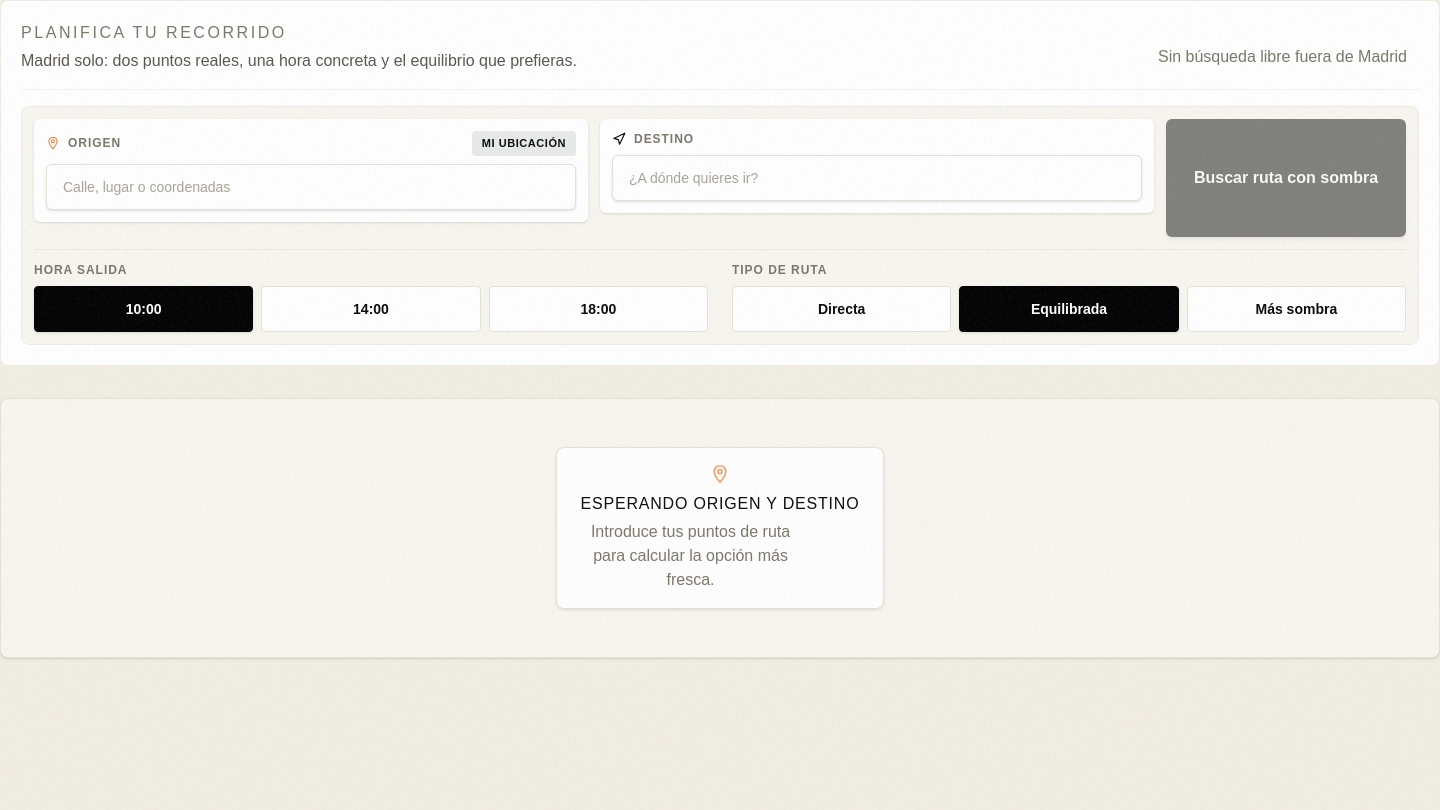
Test: SearchBar integration › shows a clear error when the catalog cannot be loaded
Type "prado" into the dropdown named "Destino" at (877, 178), box top-left (612, 155), bottom-right (1142, 201)
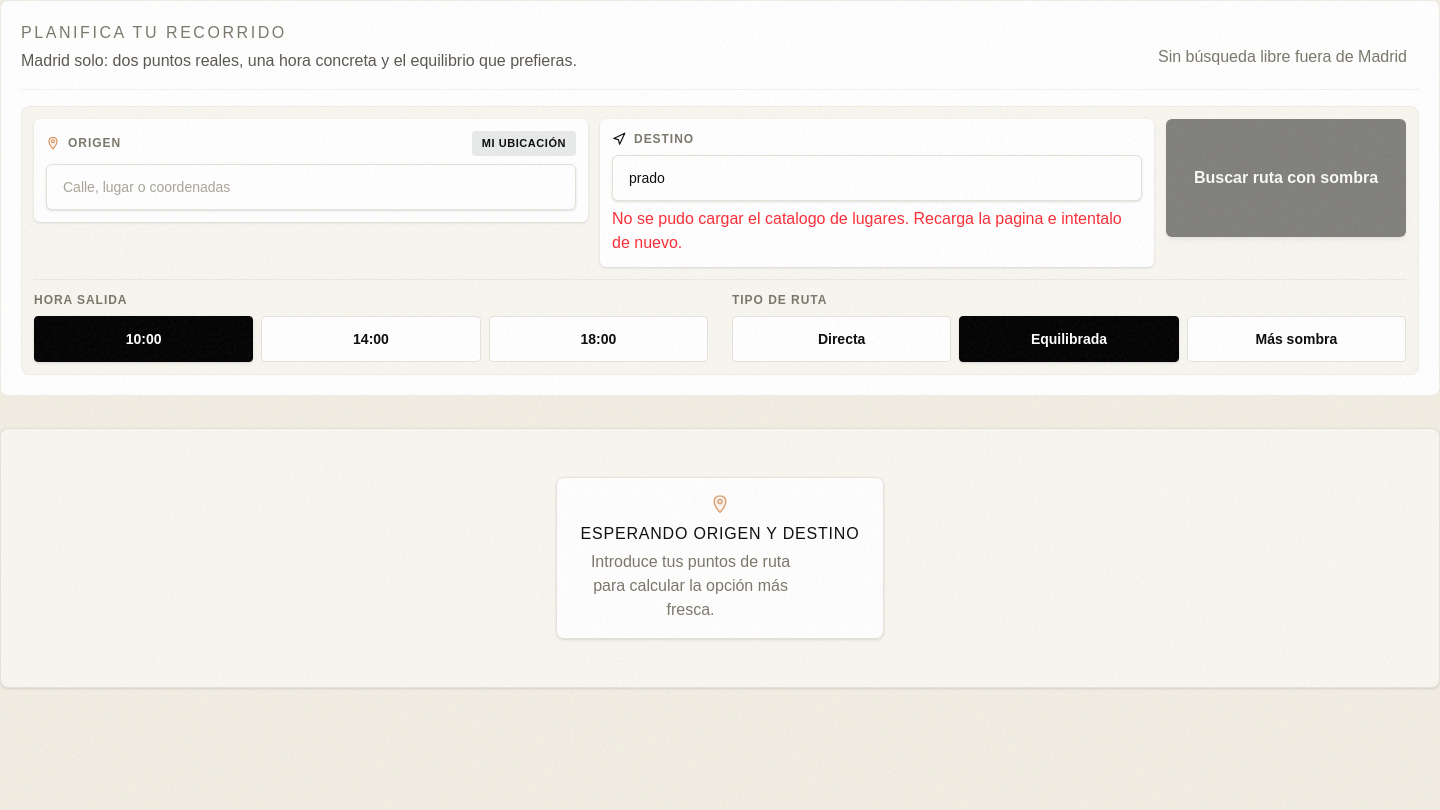
Check: the text "No se pudo cargar el catalogo de lugares. Recarga la pagina e intentalo de nuevo." is shown, box top-left (612, 210), bottom-right (1122, 251)
